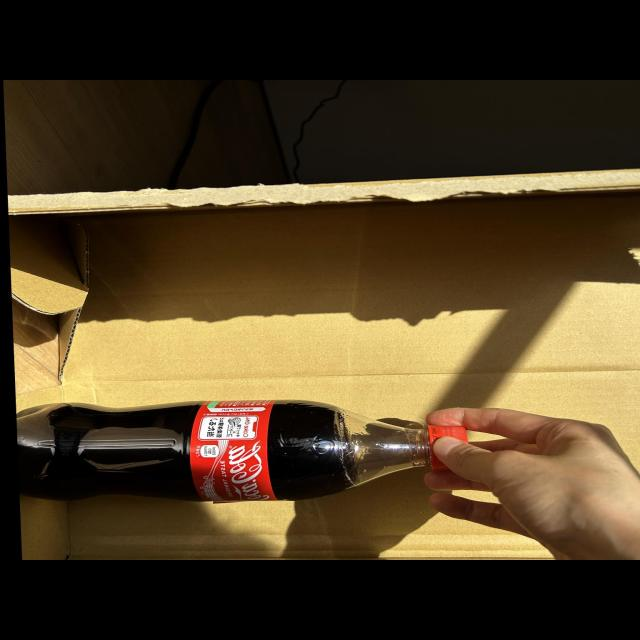high: (18, 401, 467, 504)
